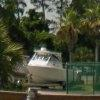Boat: (18, 44, 67, 93)
